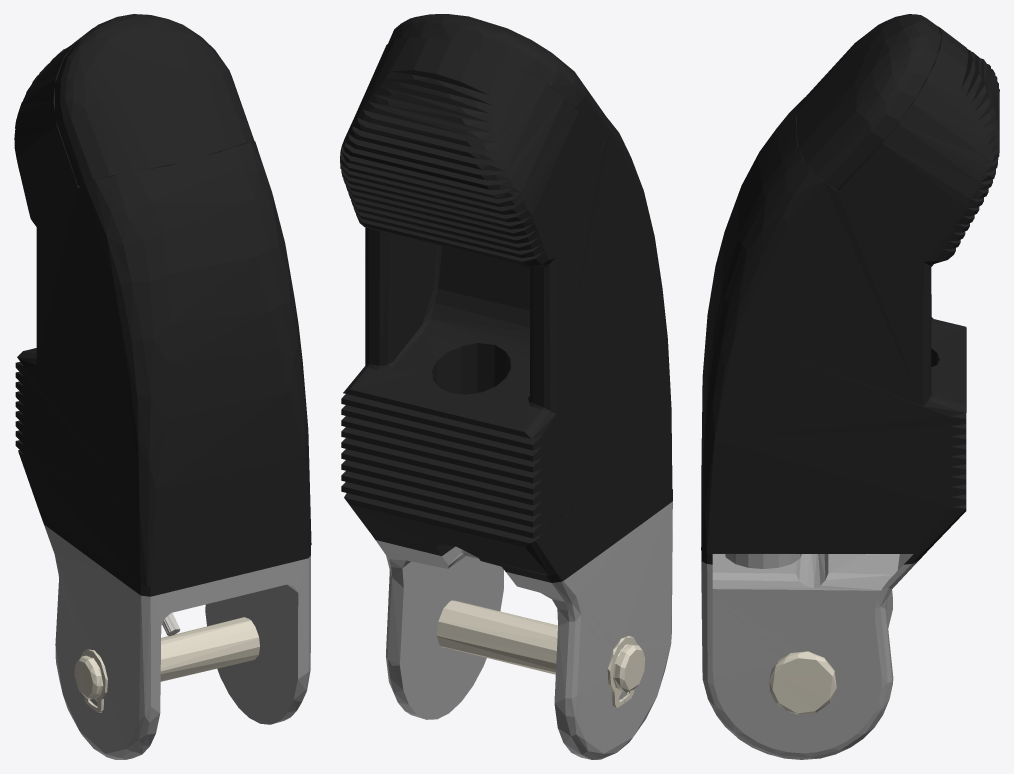
The model's file is mf_distal.dae.
The picture shows the model from 3 angles, left to right: view 1: azimuth 30°, elevation 25°; view 2: azimuth 150°, elevation 25°; view 3: azimuth 270°, elevation 25°; orthographic projection. The views are drawn at different scales.
Visible parts, largest first — view 1: SIH_right_008, SIH_right_040, SIH_right_041, SIH_right_042, SIH_right_038; view 2: SIH_right_008, SIH_right_040, SIH_right_042, SIH_right_041, SIH_right_038; view 3: SIH_right_008, SIH_right_040, SIH_right_041, SIH_right_042.
Boxes of the visible parts, left/top/right/bottom form: SIH_right_008: left=14, top=28, right=311, bottom=596; SIH_right_040: left=44, top=524, right=310, bottom=759; SIH_right_041: left=55, top=14, right=254, bottom=186; SIH_right_042: left=74, top=617, right=259, bottom=699; SIH_right_038: left=81, top=649, right=107, bottom=712; SIH_right_008: left=340, top=36, right=672, bottom=582; SIH_right_040: left=375, top=501, right=672, bottom=759; SIH_right_042: left=437, top=600, right=645, bottom=692; SIH_right_041: left=388, top=14, right=609, bottom=143; SIH_right_038: left=607, top=636, right=637, bottom=707; SIH_right_008: left=701, top=26, right=999, bottom=564; SIH_right_040: left=701, top=551, right=917, bottom=759; SIH_right_041: left=796, top=14, right=941, bottom=189; SIH_right_042: left=769, top=651, right=836, bottom=714.
Size of the model in its own units: 20.02 by 26.49 by 68.08.
